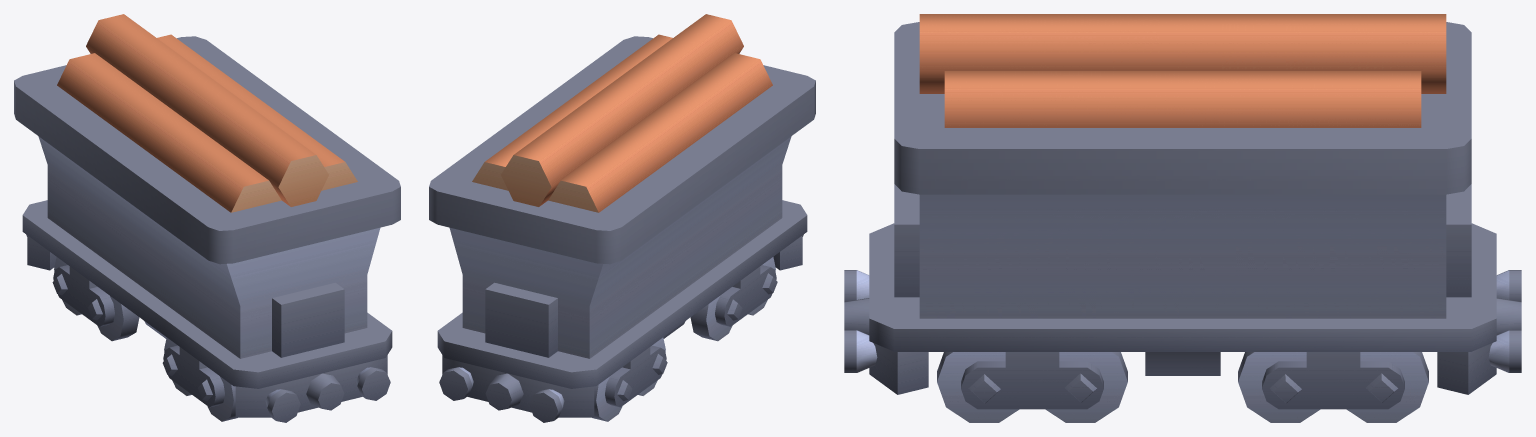
Rendered from wagon_wood.glb.
3 views of the same model, side by side, from view 1: azimuth 30°, elevation 25°; view 2: azimuth 150°, elevation 25°; view 3: azimuth 270°, elevation 25° (orthographic). The views are drawn at different scales.
Parts seen in each view (by area): view 1: train-carriage-wood, cargo, wheels-back, wheels-front; view 2: train-carriage-wood, cargo, wheels-front, wheels-back; view 3: train-carriage-wood, cargo, wheels-front, wheels-back.
Part boxes in pixels (x1,y1,x2,y2): train-carriage-wood: (14, 36, 400, 422); cargo: (57, 14, 357, 212); wheels-back: (52, 257, 139, 341); wheels-front: (162, 337, 237, 421); train-carriage-wood: (429, 36, 815, 422); cargo: (472, 14, 772, 212); wheels-front: (690, 257, 777, 341); wheels-back: (592, 337, 667, 421); train-carriage-wood: (844, 22, 1521, 394); cargo: (919, 14, 1446, 127); wheels-front: (937, 352, 1127, 422); wheels-back: (1238, 352, 1428, 422).
Bounding box in the file's own units: 1.2 × 1.57 × 2.7.
1 material, 1 textured.
